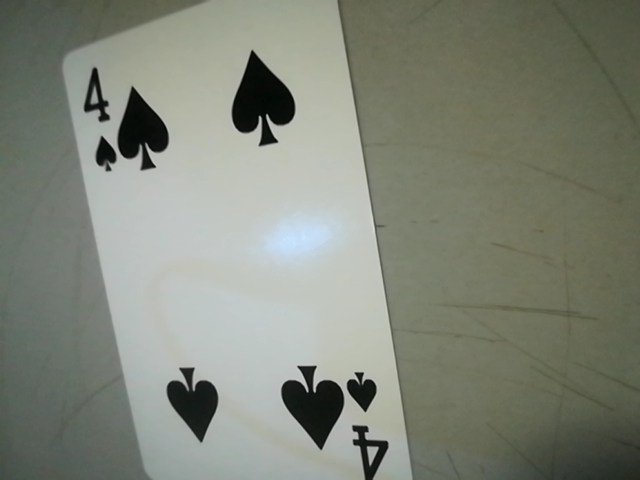ht 4: (338, 360, 403, 480), (70, 66, 128, 178)
